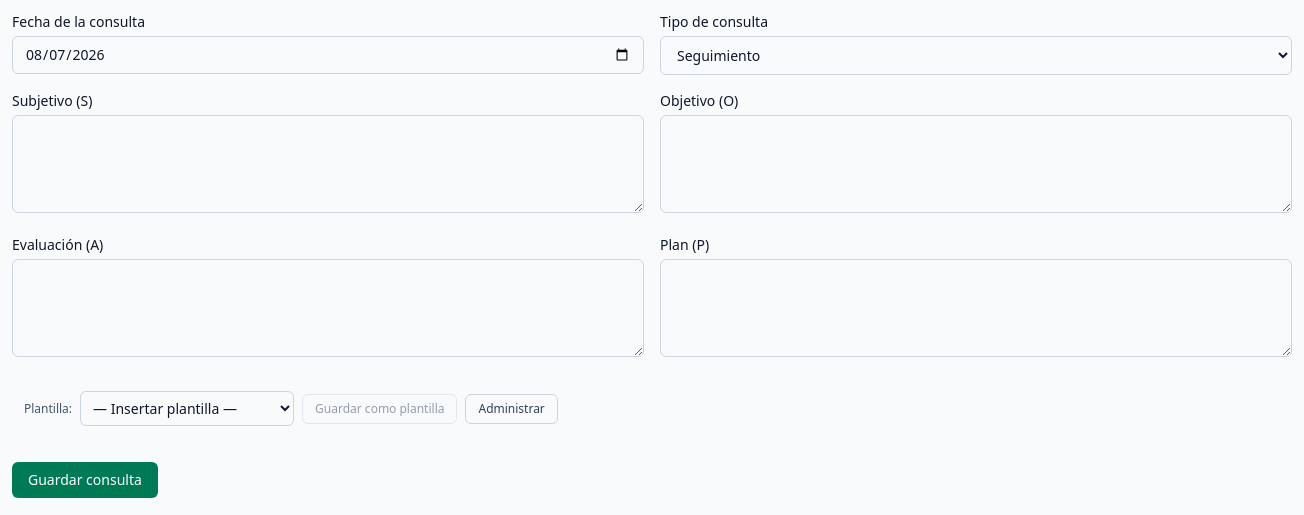
Scenario: ConsultationForm templates › asks before overwriting text the practitioner already typed
In the text box labelled "Subjetivo (S)": [328, 164] box [12, 115, 644, 213], type "Refiere apego parcial"
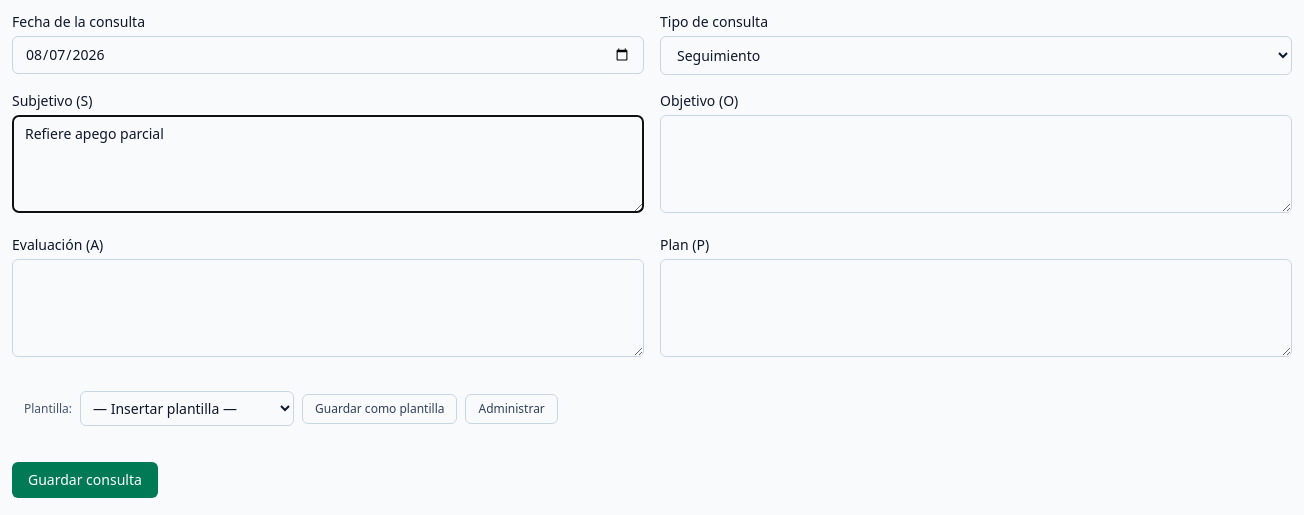
Select "Primera consulta — adulto" in the dropdown labelled "Plantilla:": [187, 408] box [80, 391, 294, 426]
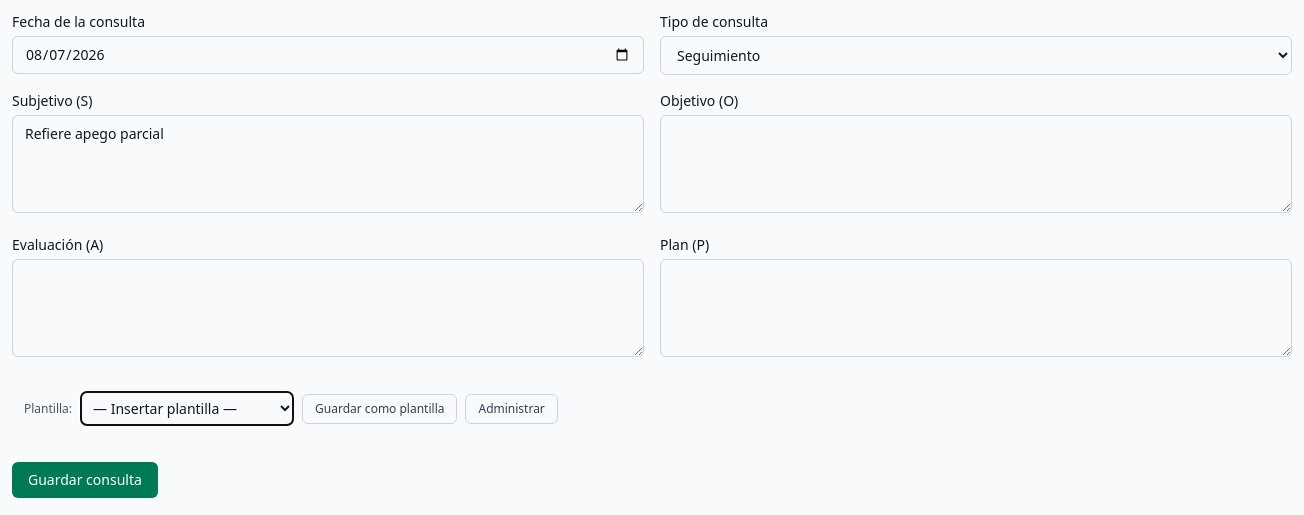
Select "Primera consulta — adulto" in the dropdown labelled "Plantilla:": [187, 408] box [80, 391, 294, 426]
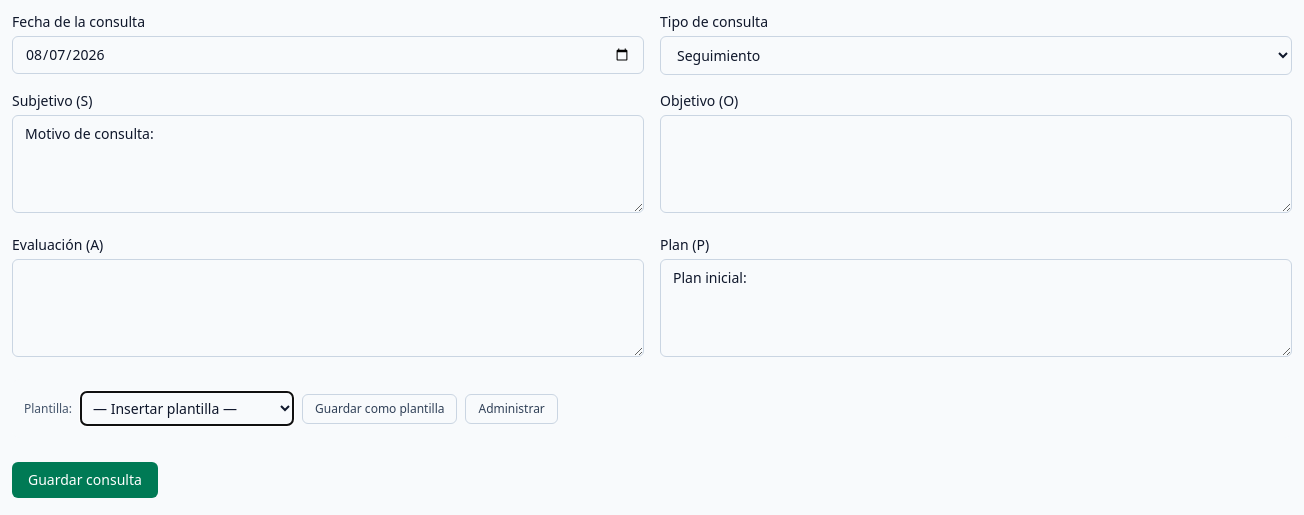
Expected: the text box labelled "Subjetivo (S)" holds "Motivo de consulta:", [12, 115, 644, 213]
